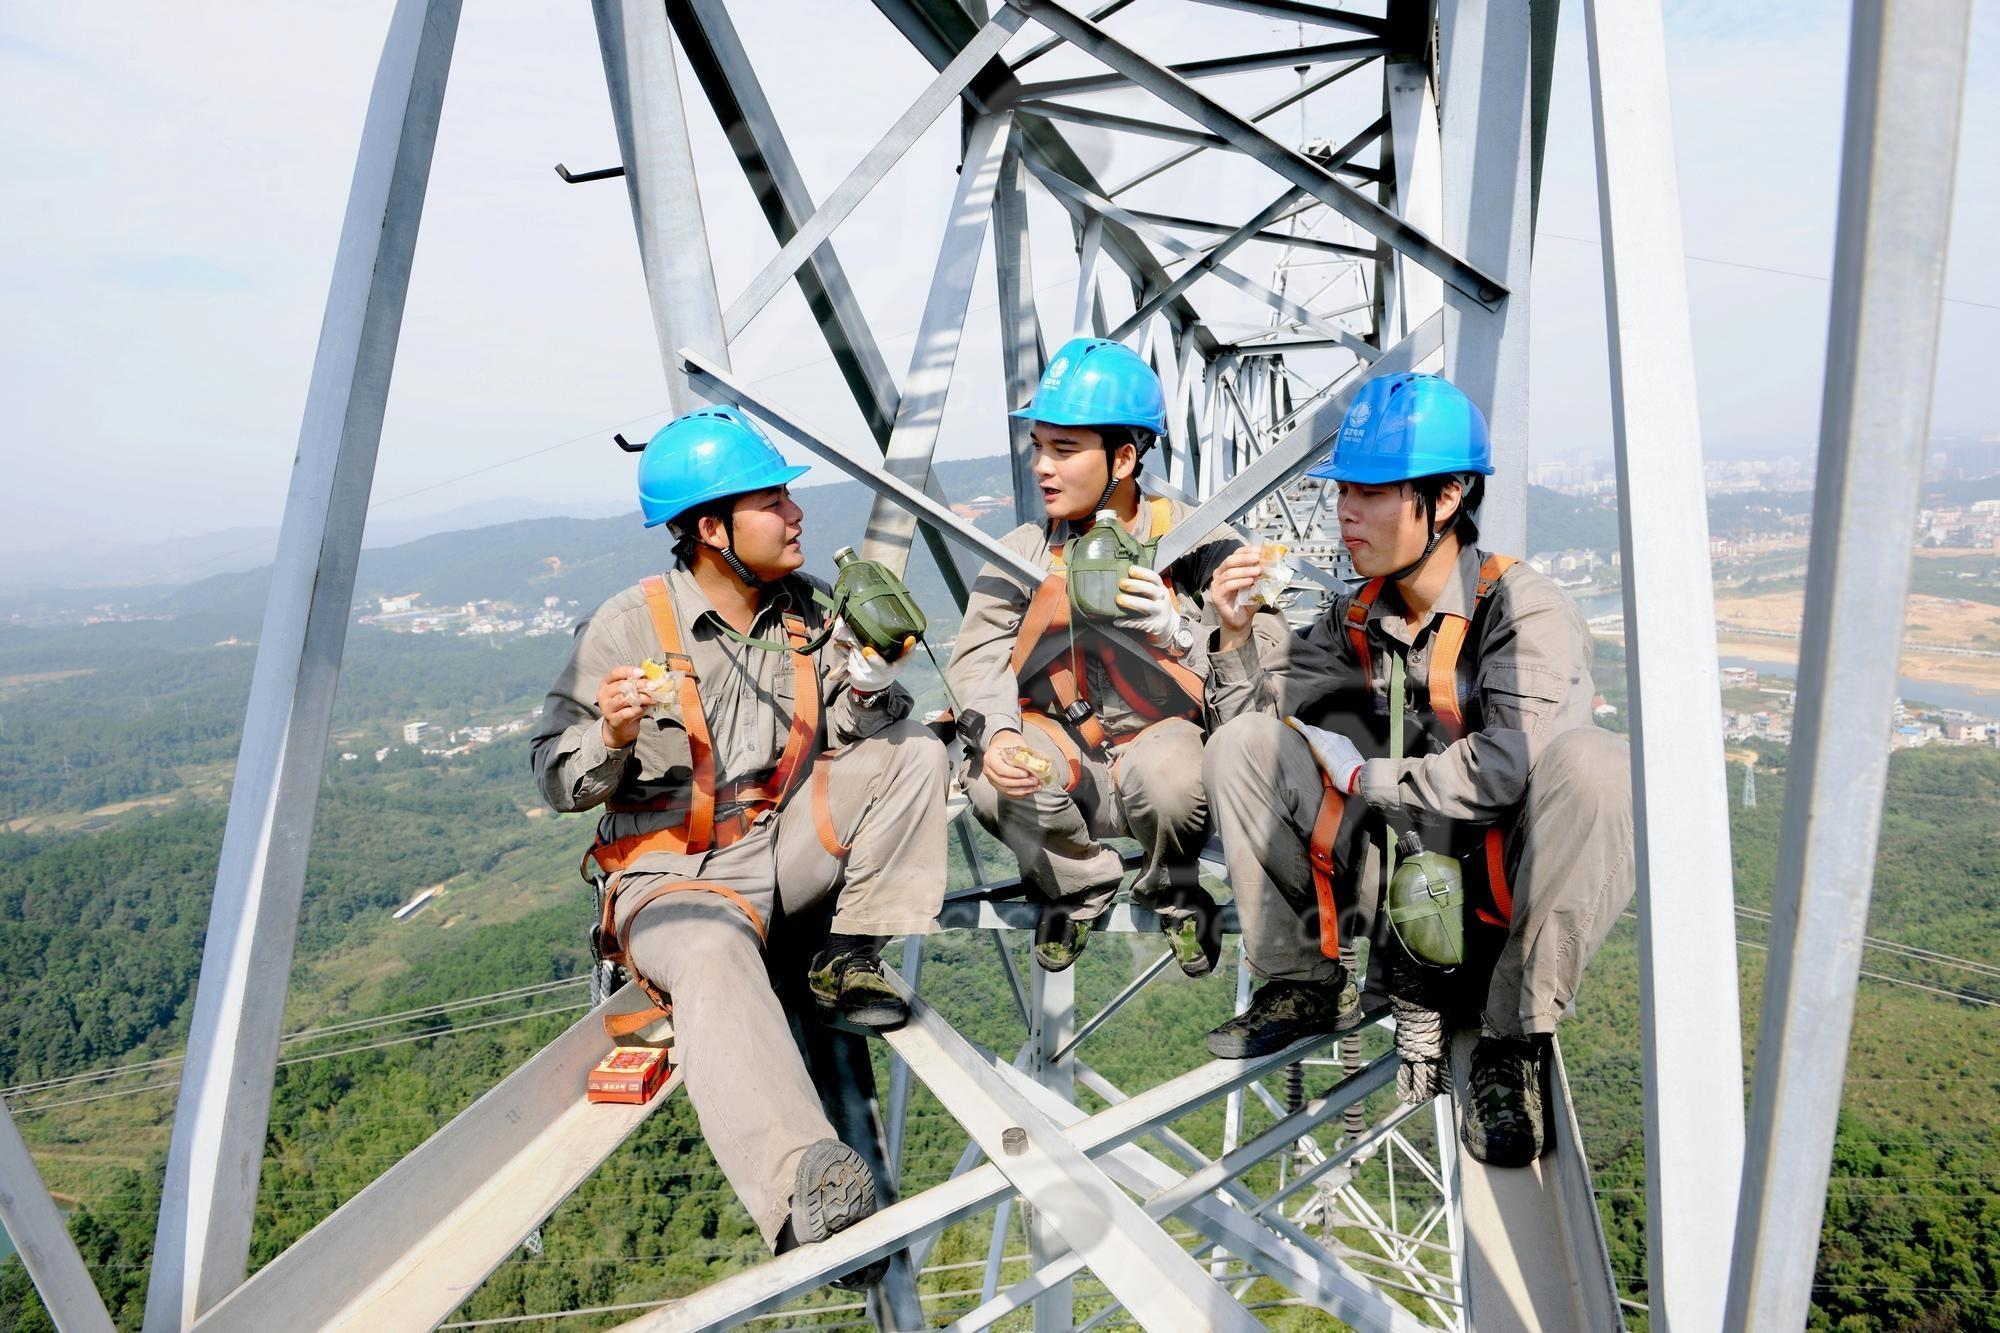helmet: (1322, 363, 1492, 479), (1007, 333, 1147, 446), (632, 418, 791, 516)
person: (552, 393, 975, 1333), (1257, 383, 1552, 1189), (947, 318, 1285, 989)
